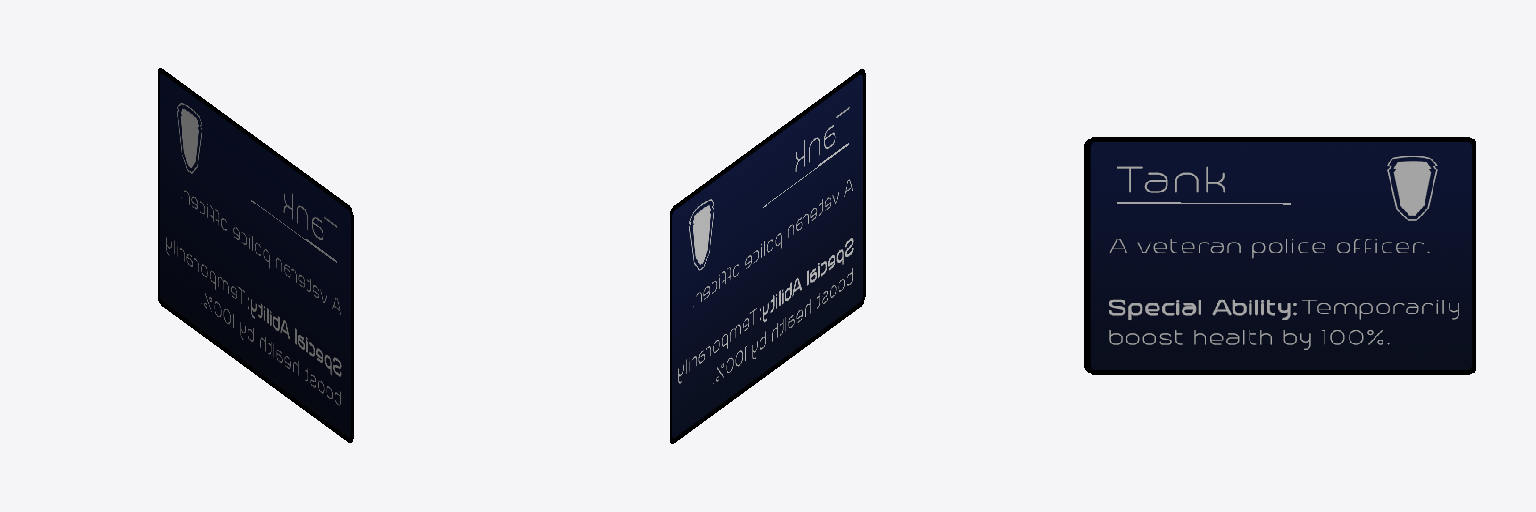
3 views of the same model, side by side, from view 1: azimuth 30°, elevation 25°; view 2: azimuth 150°, elevation 25°; view 3: azimuth 270°, elevation 25° (orthographic).
Visible parts, largest first — view 1: Plane; view 2: Plane; view 3: Plane.
Part boxes in pixels (left/top/right/bottom): Plane: left=158, top=68, right=353, bottom=442; Plane: left=670, top=69, right=865, bottom=443; Plane: left=1084, top=137, right=1475, bottom=374.
Bounding box in the file's own units: 0 × 2 × 2.98.
Materials: 1 (1 with a texture image).